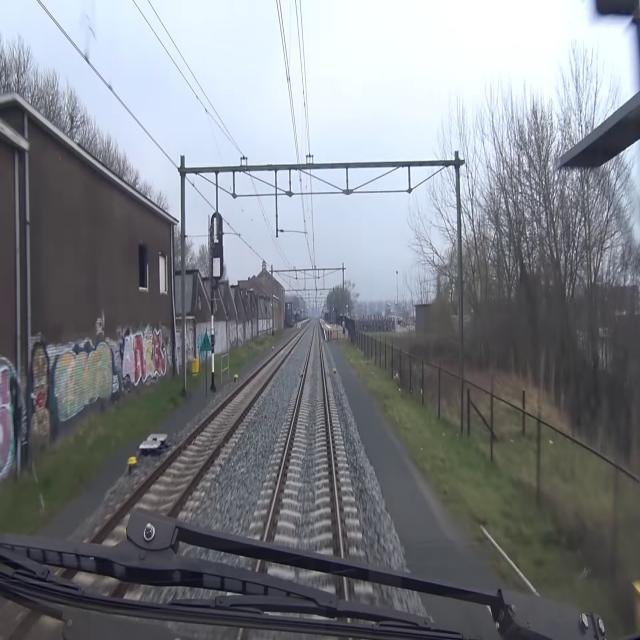rail-track: (134, 334, 300, 505), (269, 322, 338, 546), (101, 512, 121, 536)
